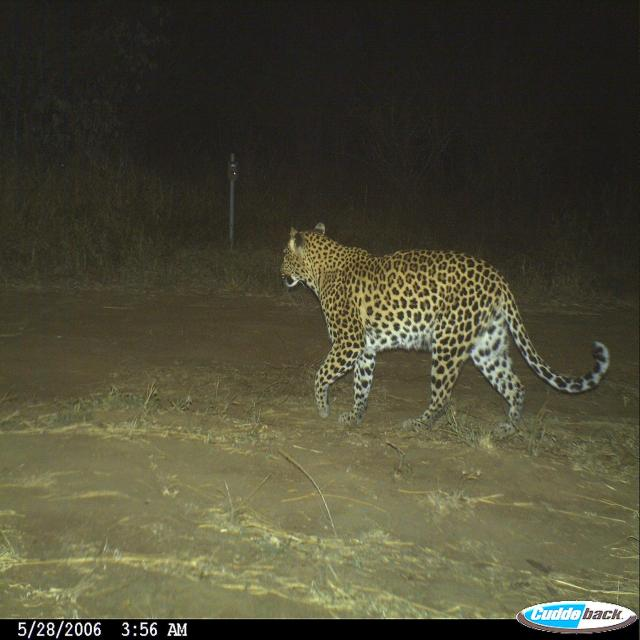Leopard: (271, 228, 606, 446)
